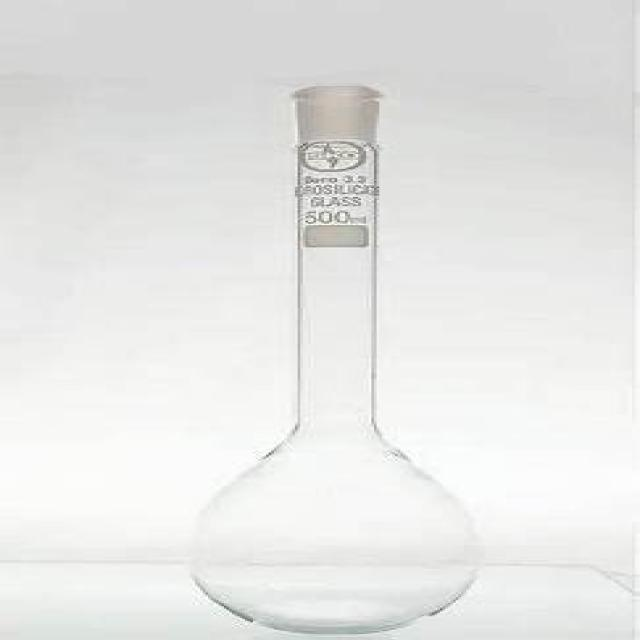Volumetric flask: (198, 66, 487, 631)
